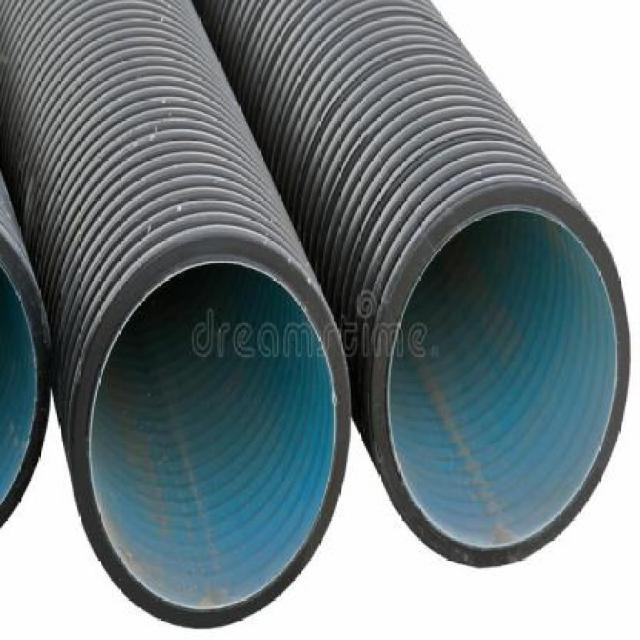pipe: (68, 234, 350, 630), (372, 183, 630, 569)
